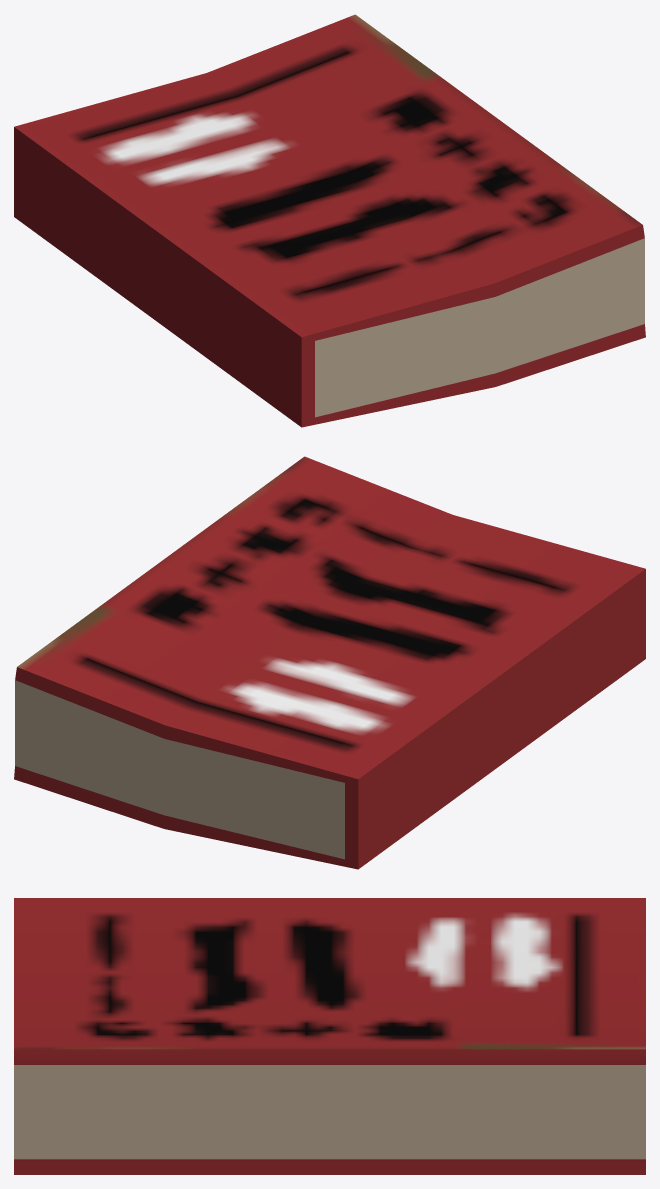
Rendered from SM_Prop_Book_01.fbx.
The picture shows the model from 3 angles, top to bottom: view 1: azimuth 30°, elevation 25°; view 2: azimuth 150°, elevation 25°; view 3: azimuth 270°, elevation 25°; orthographic projection. The views are drawn at different scales.
Visible parts, largest first — view 1: SM_Prop_Book_01; view 2: SM_Prop_Book_01; view 3: SM_Prop_Book_01.
Boxes of the visible parts, box(x1,y1,x2,y2) form: SM_Prop_Book_01: box(14, 14, 645, 427); SM_Prop_Book_01: box(14, 456, 645, 869); SM_Prop_Book_01: box(14, 898, 645, 1174).
Size of the model in its own units: 23.18 by 8.11 by 33.54.
